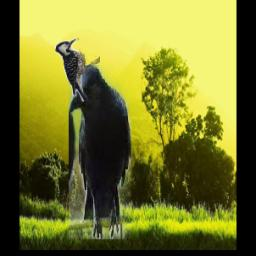Crow: (69, 66, 131, 240)
Woodpecker: (54, 38, 99, 102)
